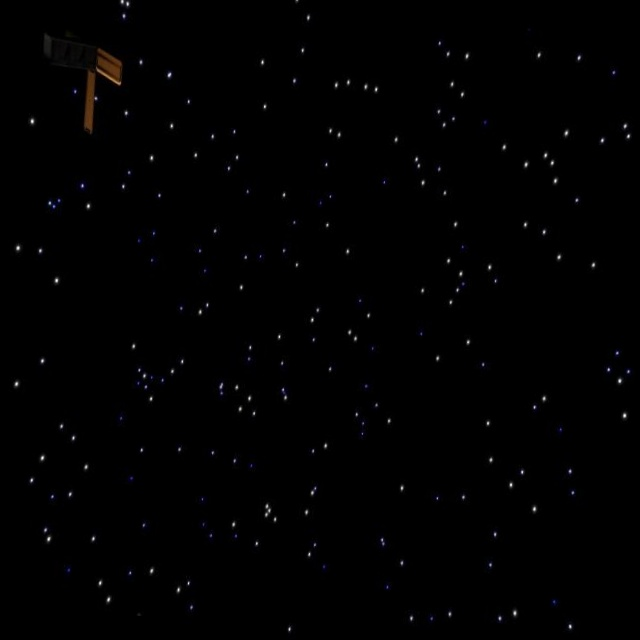satellite: (30, 18, 133, 148)
